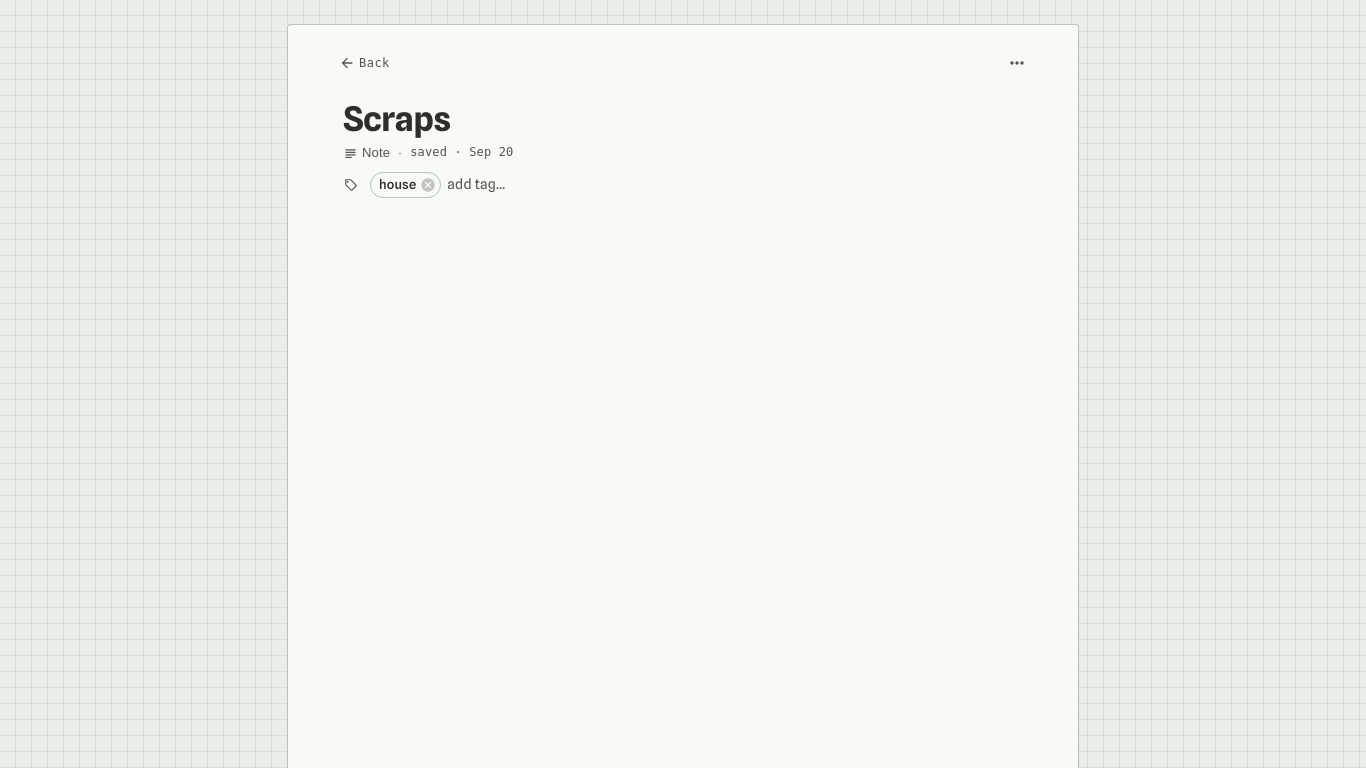
it: composing a note › says the note is unchanged when nothing came back
Click the button named "More note actions" at (1017, 63), box top-left (1001, 47), bottom-right (1033, 79)
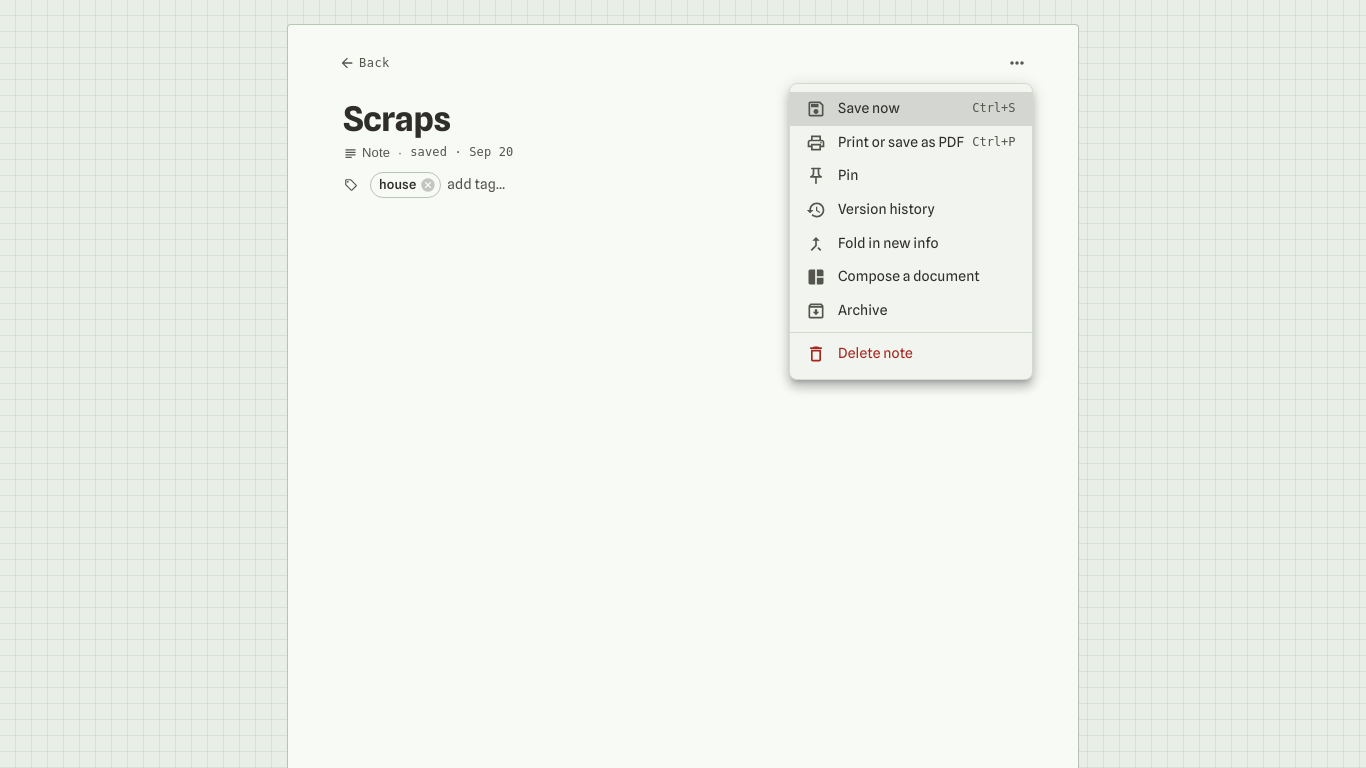
Click the menu item with aria-label "Compose a document from this note" at (893, 277), box top-left (806, 267), bottom-right (980, 287)
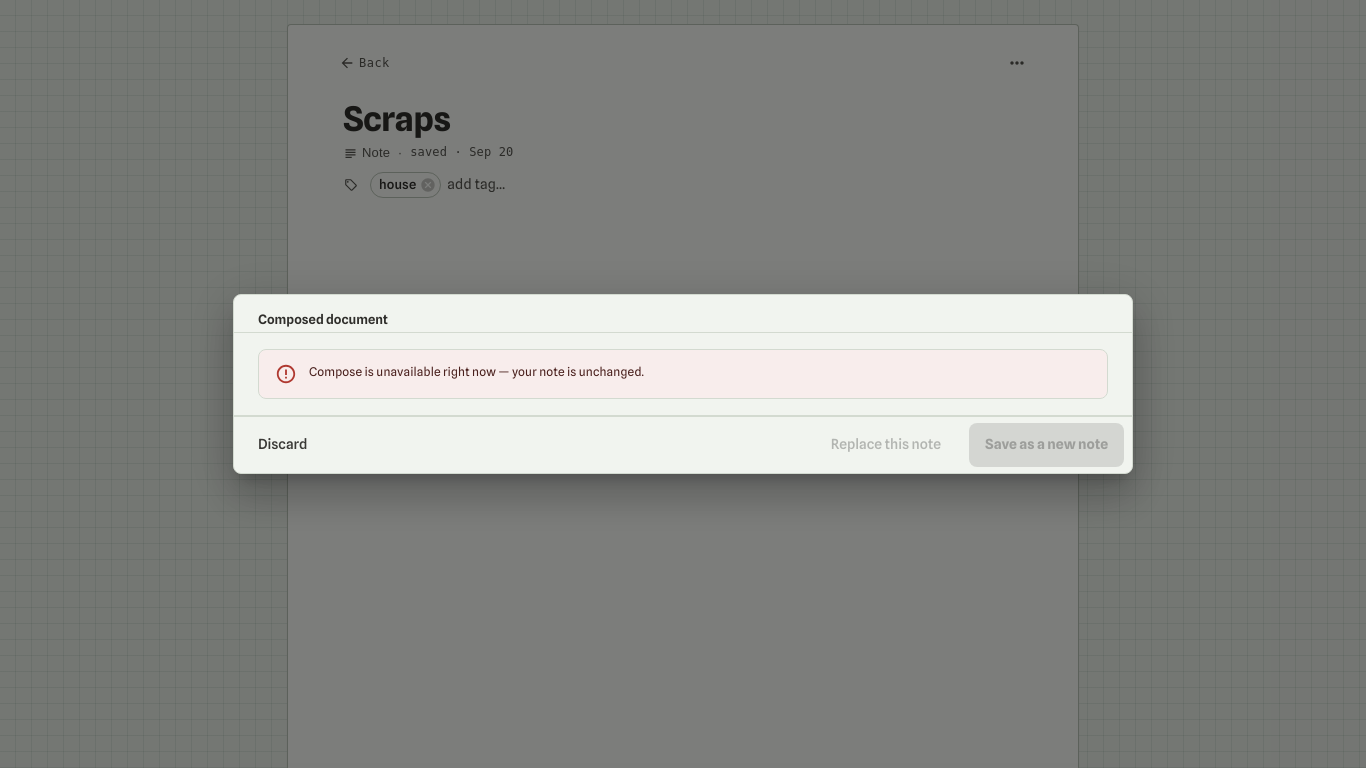
Expected: the text "Compose is unavailable right now — your note is unchanged." is shown, top-left (309, 364), bottom-right (644, 379)
